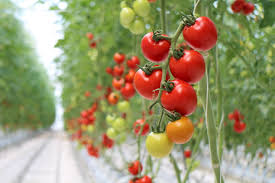tomato: (165, 51, 208, 86), (133, 67, 169, 104), (161, 79, 198, 114), (183, 17, 218, 53), (140, 32, 172, 65)
